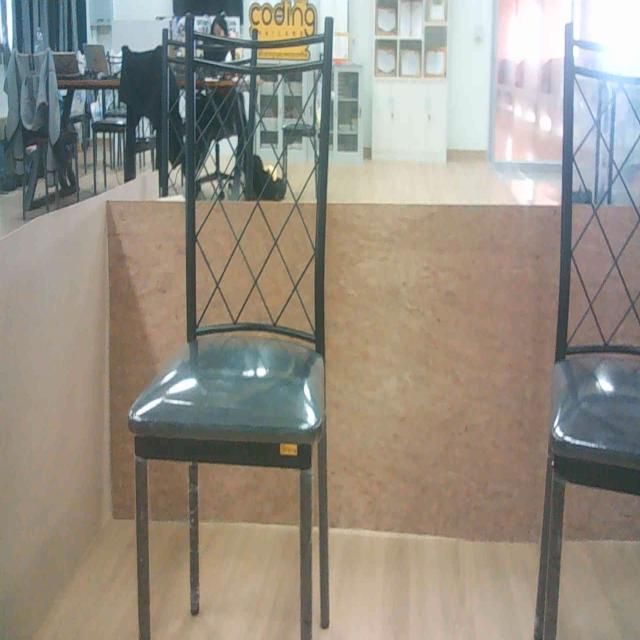emtpy: (143, 0, 337, 640), (531, 14, 640, 640)
